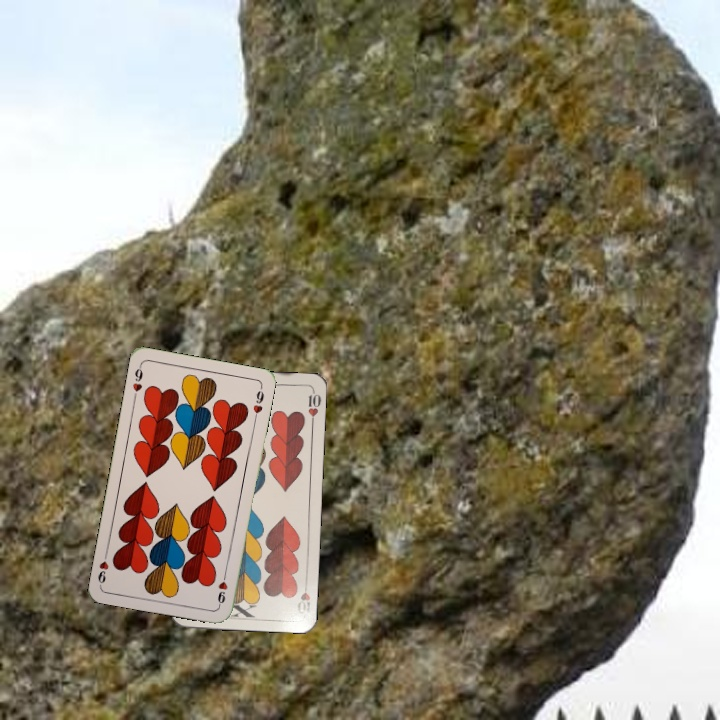H10: (293, 577, 313, 616)
H9: (128, 361, 145, 401), (213, 568, 230, 608)
